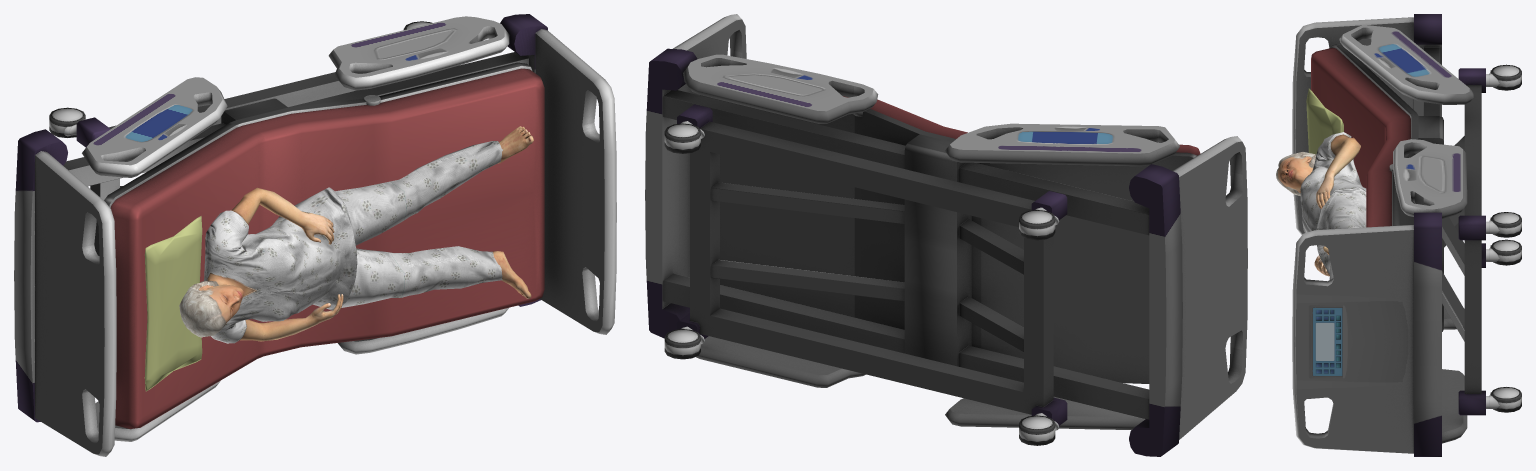
Rendered from ElderFemale.obj.
The picture shows the model from 3 angles, left to right: view 1: azimuth 30°, elevation 25°; view 2: azimuth 150°, elevation 25°; view 3: azimuth 270°, elevation 25°; orthographic projection. The views are drawn at different scales.
Visible parts, largest first — view 1: CGMVanguard_CGMVanguard.001, ElderFemale_Untitled.006; view 2: CGMVanguard_CGMVanguard.001; view 3: CGMVanguard_CGMVanguard.001, ElderFemale_Untitled.006.
Boxes of the visible parts, x1=… form: CGMVanguard_CGMVanguard.001: x1=14, y1=14, x2=616, y2=456; ElderFemale_Untitled.006: x1=179, y1=126, x2=533, y2=343; CGMVanguard_CGMVanguard.001: x1=645, y1=14, x2=1247, y2=456; CGMVanguard_CGMVanguard.001: x1=1292, y1=14, x2=1521, y2=456; ElderFemale_Untitled.006: x1=1276, y1=132, x2=1366, y2=279.
Size of the model in its own units: 2.14 by 1.09 by 1.03.
4 materials, 3 textured.
